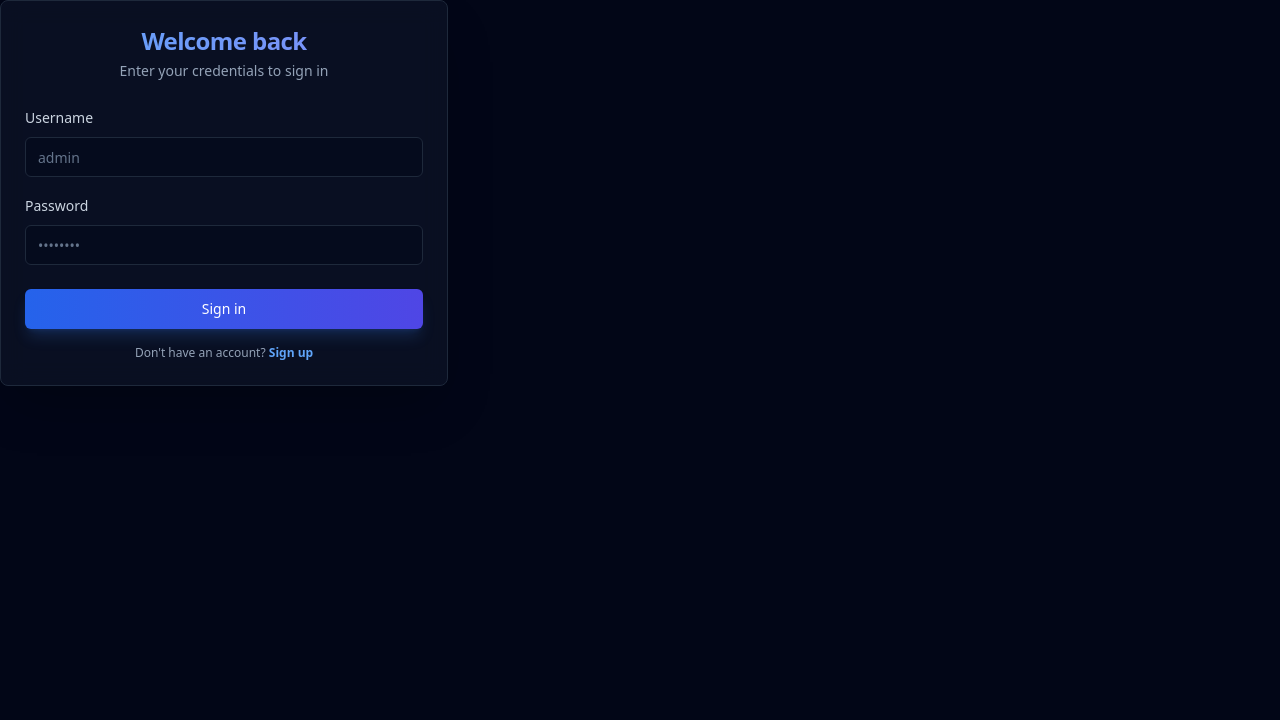
Test: Auth Flow › submits login form with credentials
This screenshot has width=1280, height=720.
Type "testuser" into the field labelled "Username". click: (224, 157)
box: left=25, top=137, right=423, bottom=177
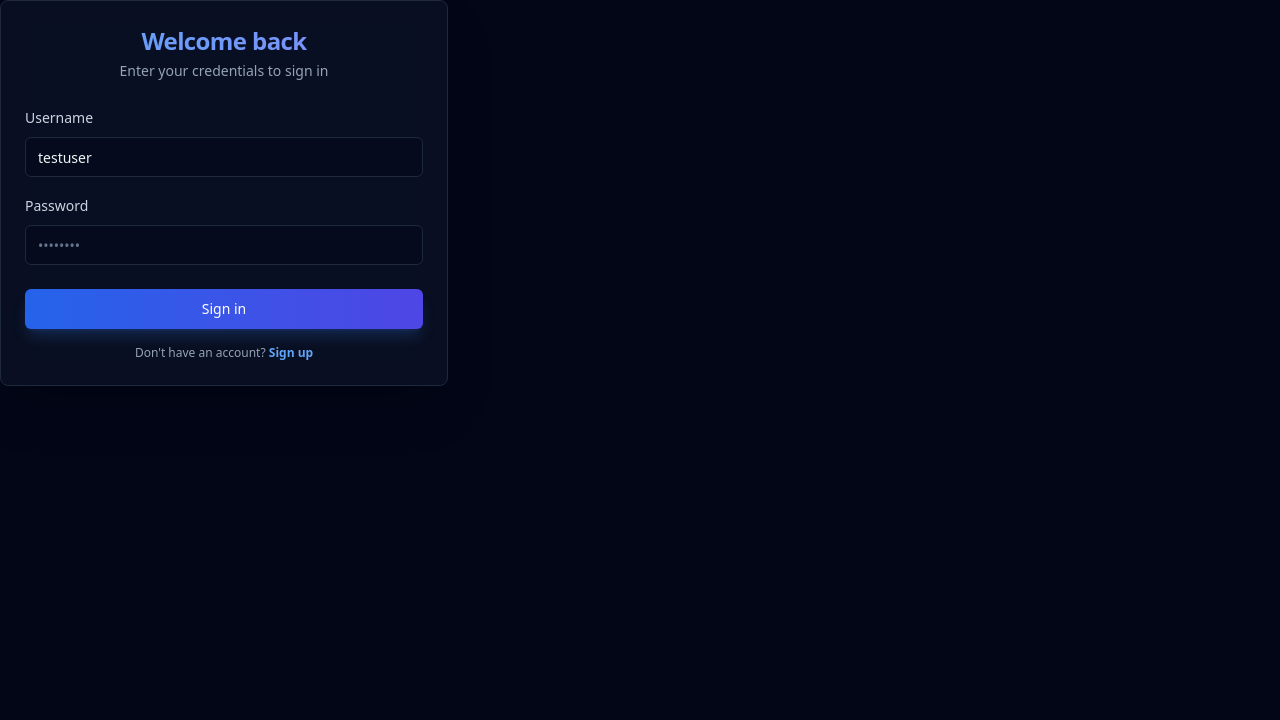
Type "password" into the password field labelled "Password". click: (224, 245)
box: left=25, top=225, right=423, bottom=265
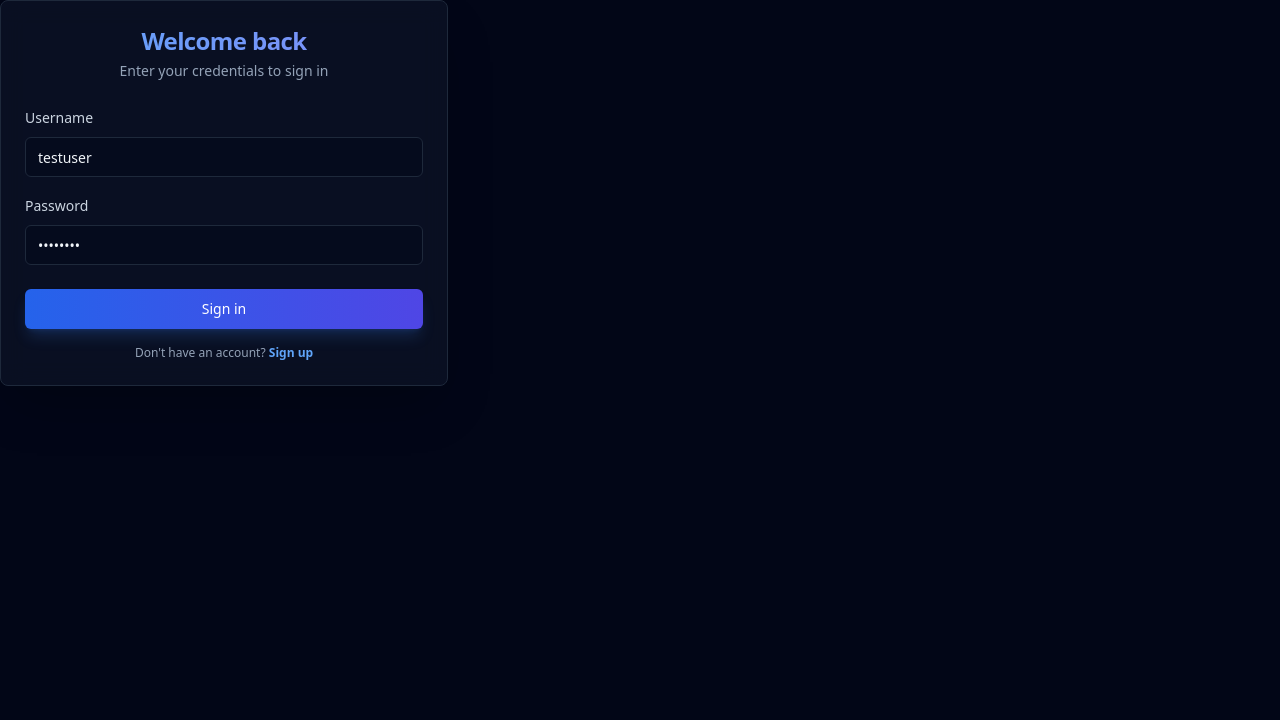
Click the button "Sign in". click: (224, 309)
box: left=25, top=289, right=423, bottom=329
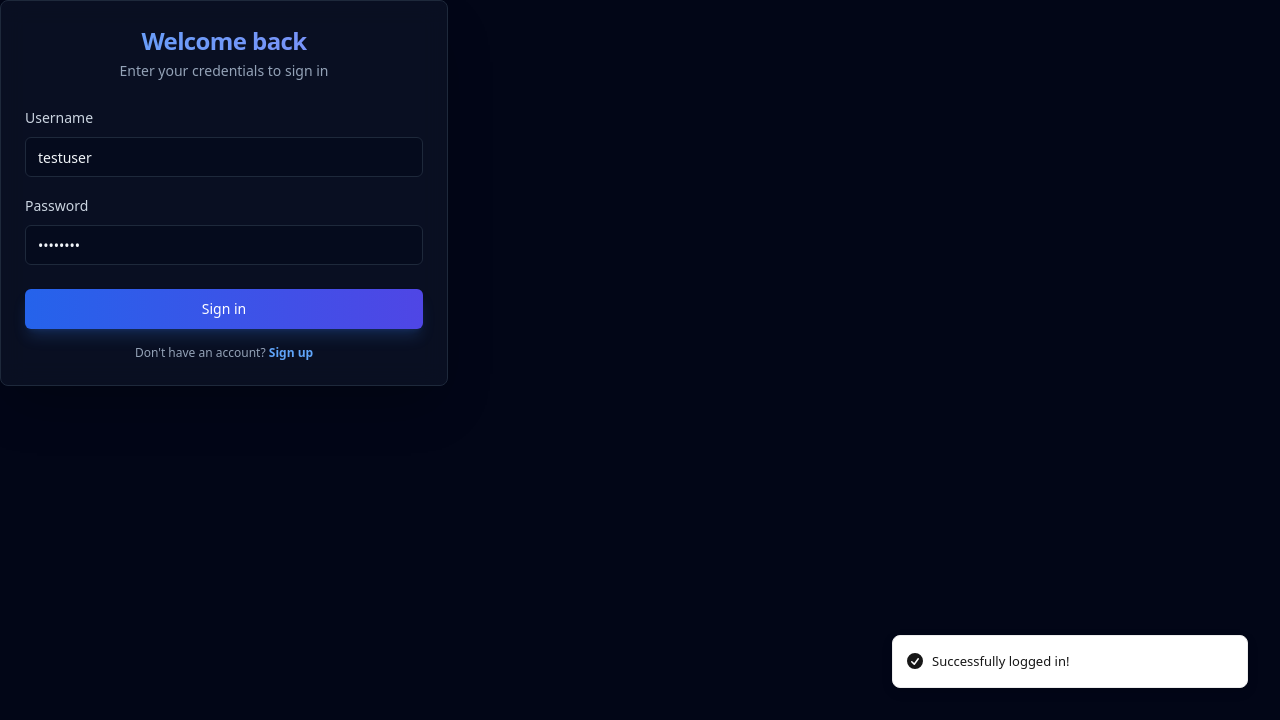
Check: the text "Successfully logged in!" is shown, box left=932, top=652, right=1070, bottom=671
